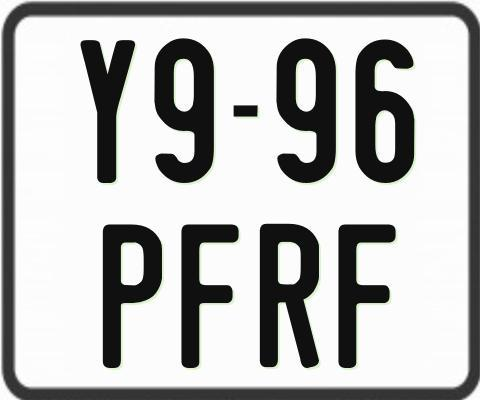6: (355, 37, 419, 182)
9: (153, 36, 219, 183), (276, 38, 338, 189)
F: (179, 222, 242, 371), (338, 224, 399, 372)
P: (103, 224, 168, 370)
R: (259, 221, 320, 366)
Y: (78, 38, 132, 186)
